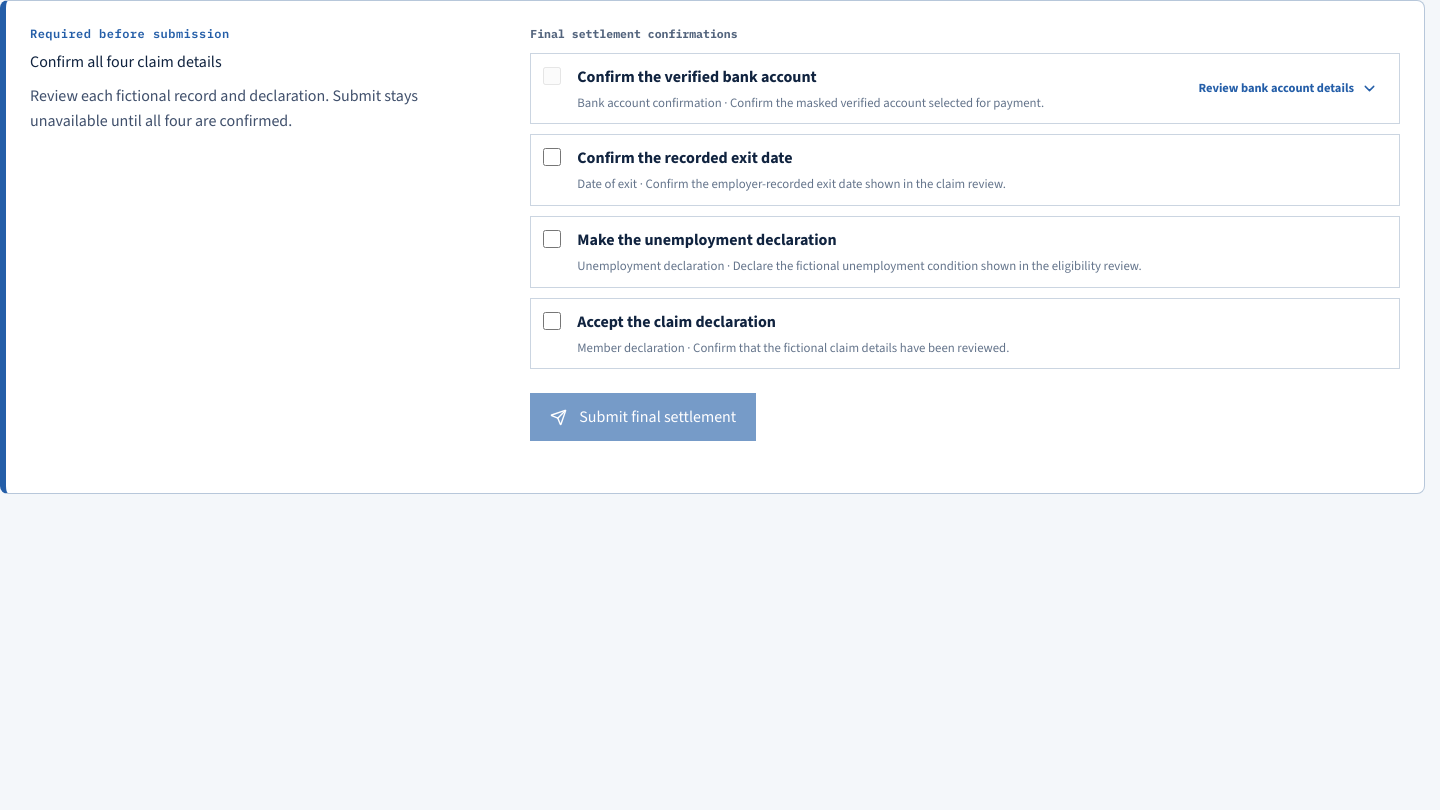
requires claim details to be reviewed before they can be confirmed
Expected: the checkbox labelled "Confirm the verified bank account" is disabled, [543, 67, 561, 85]
Click the button "Review bank account details".
click(1288, 89)  # box [1190, 69, 1387, 109]
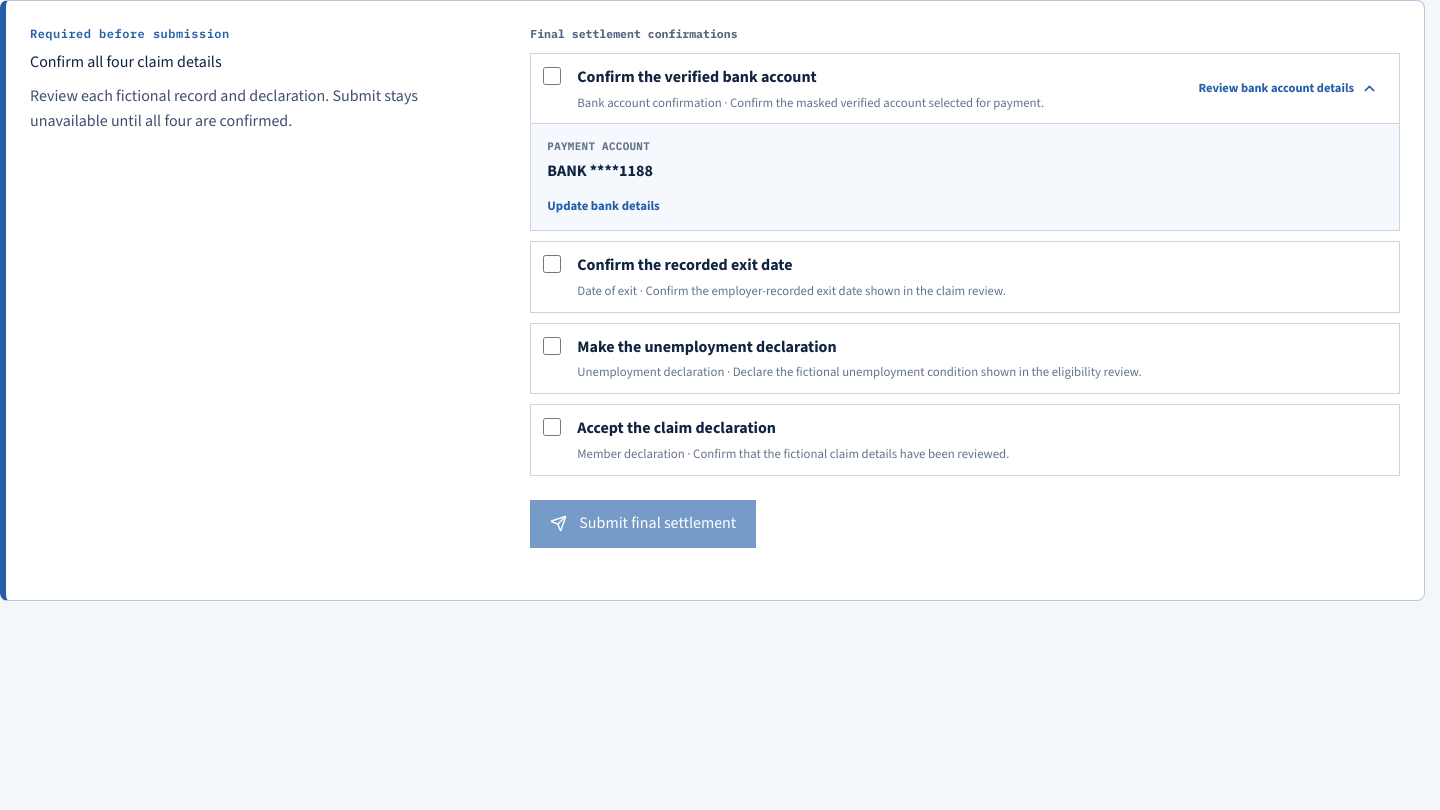
Expected: the text "BANK ****1188" is shown, [547, 160, 653, 181]
Expected: the checkbox labelled "Confirm the verified bank account" is enabled, [543, 67, 561, 85]
